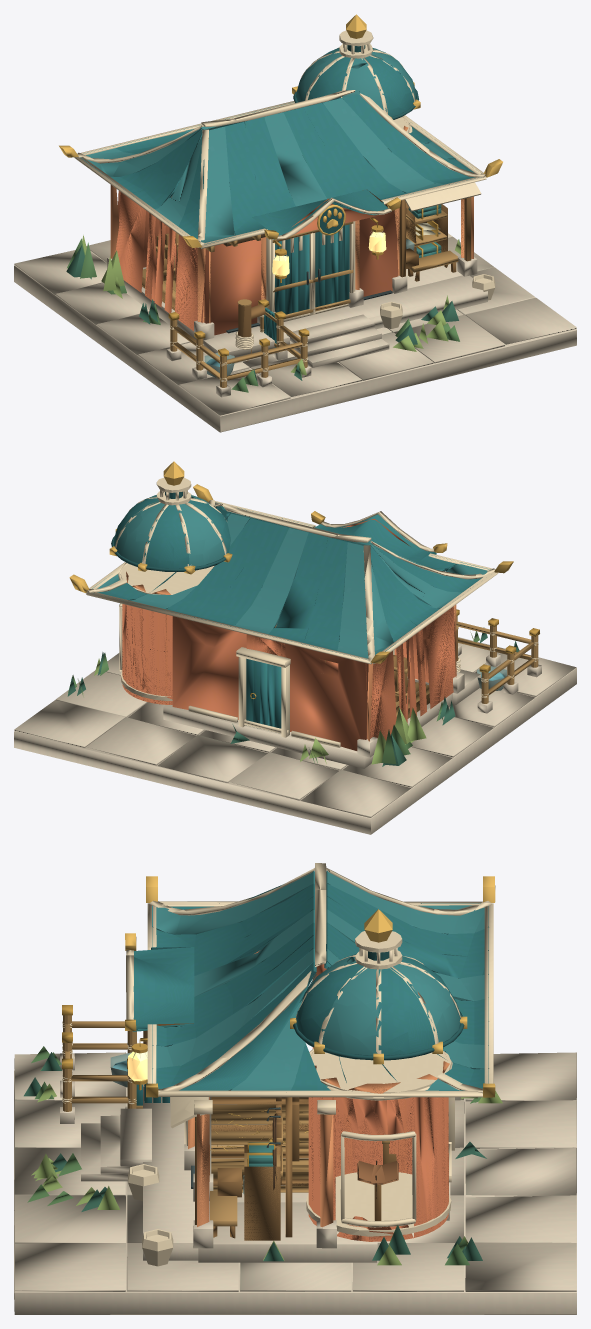
The model's file is beast-lod2-0a0a7afd479a.glb.
The picture shows the model from 3 angles, top to bottom: view 1: azimuth 30°, elevation 25°; view 2: azimuth 150°, elevation 25°; view 3: azimuth 270°, elevation 25°; orthographic projection. The views are drawn at different scales.
Visible parts, largest first — view 1: BZbatch_0.003, BZbatch_38.003, BZbatch_6.003, BZbatch_35.003, BZbatch_40.003, BZbatch_47.003, BZbatch_70.003, BZbatch_41.003, BZbatch_12.003, BZbatch_42.003, BZbatch_91.003, BZbatch_61.003 (+3 smaller); view 2: BZbatch_0.003, BZbatch_6.003, BZbatch_38.003, BZbatch_40.003, BZbatch_35.003, BZbatch_47.003, BZbatch_42.003, BZbatch_91.003, BZbatch_86.003, BZbatch_90.003, BZbatch_41.003, BZbatch_12.003; view 3: BZbatch_0.003, BZbatch_38.003, BZbatch_40.003, BZbatch_35.003, BZbatch_6.003, BZbatch_70.003, BZbatch_47.003, BZbatch_12.003, BZbatch_42.003, BZbatch_86.003, BZbatch_91.003, BZbatch_41.003 (+3 smaller).
Boxes of the visible parts, x1,y1,x2,y2 form: BZbatch_0.003: [14, 233, 576, 432]; BZbatch_38.003: [103, 48, 481, 347]; BZbatch_6.003: [115, 191, 398, 335]; BZbatch_35.003: [80, 52, 456, 248]; BZbatch_40.003: [74, 30, 495, 381]; BZbatch_47.003: [142, 210, 458, 387]; BZbatch_70.003: [142, 191, 471, 361]; BZbatch_41.003: [102, 45, 455, 314]; BZbatch_12.003: [110, 126, 473, 323]; BZbatch_42.003: [59, 14, 502, 248]; BZbatch_91.003: [82, 235, 460, 375]; BZbatch_61.003: [168, 205, 472, 356]; BZbatch_0.003: [14, 637, 576, 834]; BZbatch_6.003: [122, 518, 456, 750]; BZbatch_38.003: [93, 498, 482, 728]; BZbatch_40.003: [86, 477, 538, 747]; BZbatch_35.003: [92, 495, 490, 663]; BZbatch_47.003: [394, 616, 538, 716]; BZbatch_42.003: [69, 461, 513, 663]; BZbatch_91.003: [78, 632, 473, 764]; BZbatch_86.003: [67, 627, 518, 766]; BZbatch_90.003: [68, 631, 519, 763]; BZbatch_41.003: [111, 491, 470, 641]; BZbatch_12.003: [126, 571, 456, 741]; BZbatch_0.003: [14, 1052, 576, 1314]; BZbatch_38.003: [132, 883, 488, 1105]; BZbatch_40.003: [62, 863, 493, 1266]; BZbatch_35.003: [152, 870, 488, 1090]; BZbatch_6.003: [254, 950, 448, 1241]; BZbatch_70.003: [143, 1023, 396, 1240]; BZbatch_47.003: [63, 1015, 389, 1226]; BZbatch_12.003: [188, 1051, 449, 1227]; BZbatch_42.003: [125, 876, 495, 1151]; BZbatch_86.003: [24, 1052, 486, 1261]; BZbatch_91.003: [31, 1083, 502, 1265]; BZbatch_41.003: [152, 883, 488, 1090].
Size of the model in its own units: 9.99 by 6.82 by 9.99.
23 materials, 11 textured.
